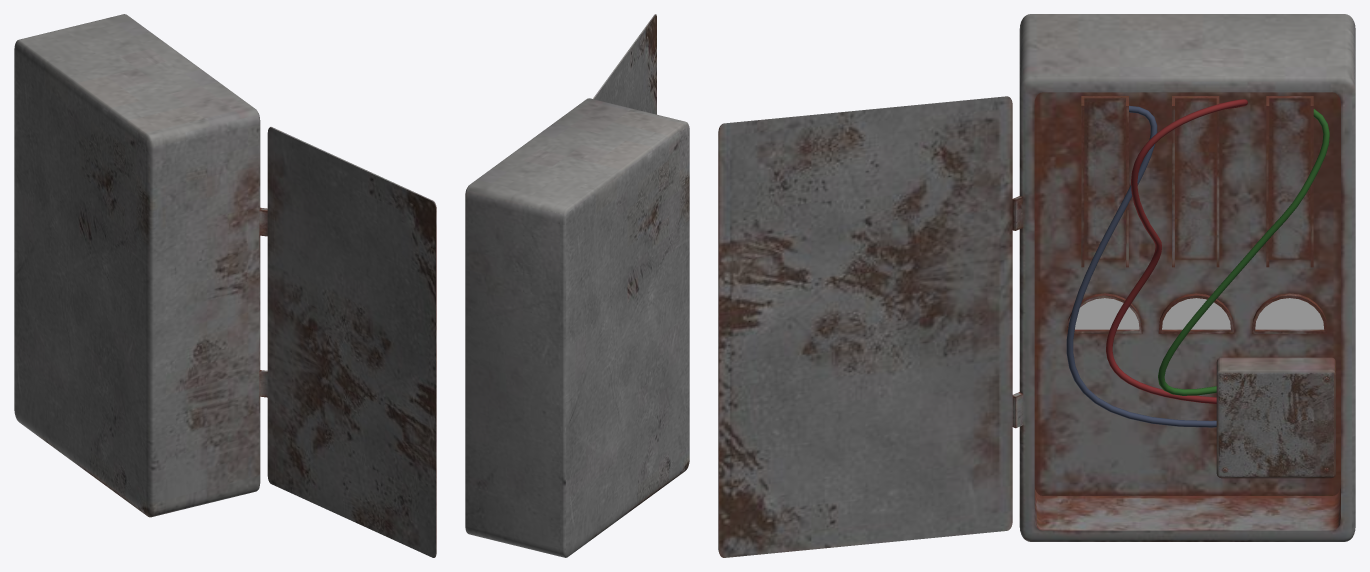
Rendered from caixa de fusivel.fbx.
3 renders of one model, left to right at view 1: azimuth 30°, elevation 25°; view 2: azimuth 150°, elevation 25°; view 3: azimuth 270°, elevation 25°, orthographic. The views are drawn at different scales.
Parts seen in each view (by area): view 1: Cube.003; view 2: Cube.003; view 3: Cube.003.
Part boxes in pixels (bbox=[...]): Cube.003: bbox=[14, 14, 436, 557]; Cube.003: bbox=[465, 14, 689, 557]; Cube.003: bbox=[718, 14, 1355, 557].
Bounding box in the file's own units: 42.24 × 94.71 × 118.
